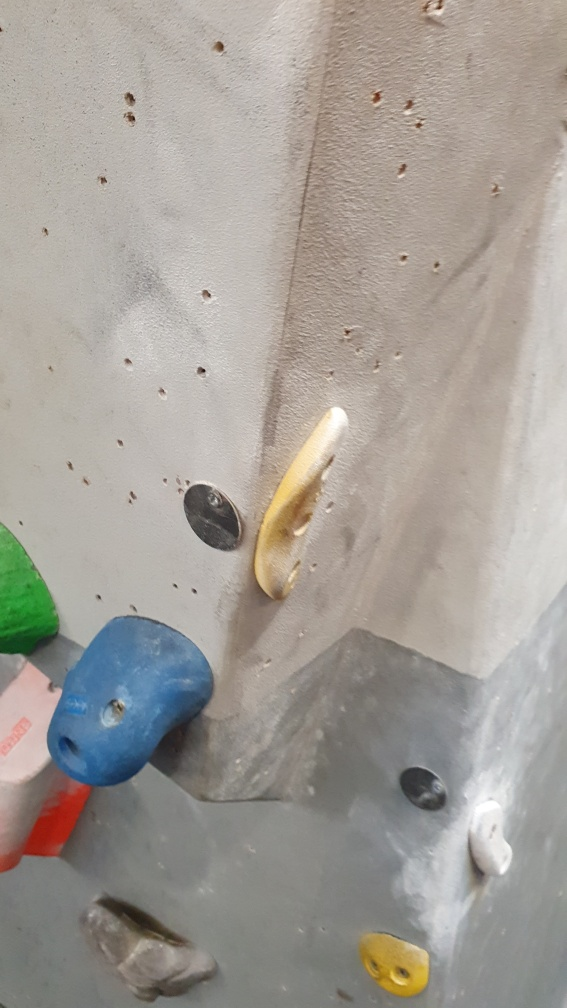Hand Start: (187, 477, 245, 552), (396, 759, 451, 815)
Jug: (79, 892, 218, 1001)
